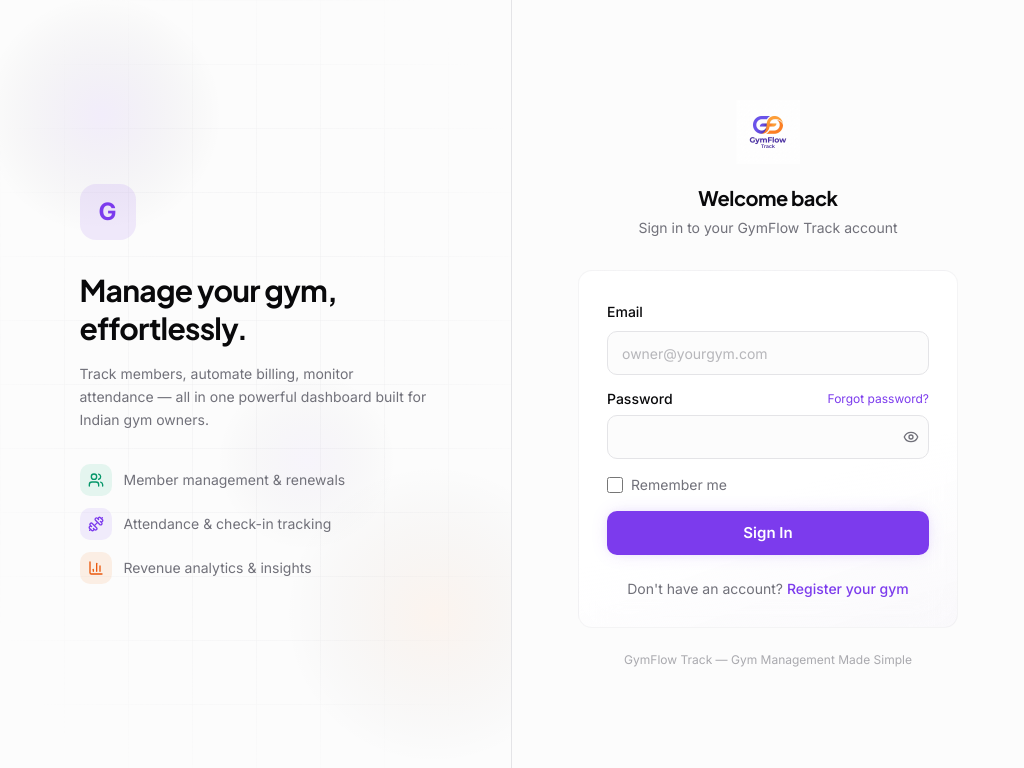
LoginPage › shows validation error for invalid email
In the field labelled "Email": {"x": 768, "y": 353} [607,331,929,375], type "notanemail"
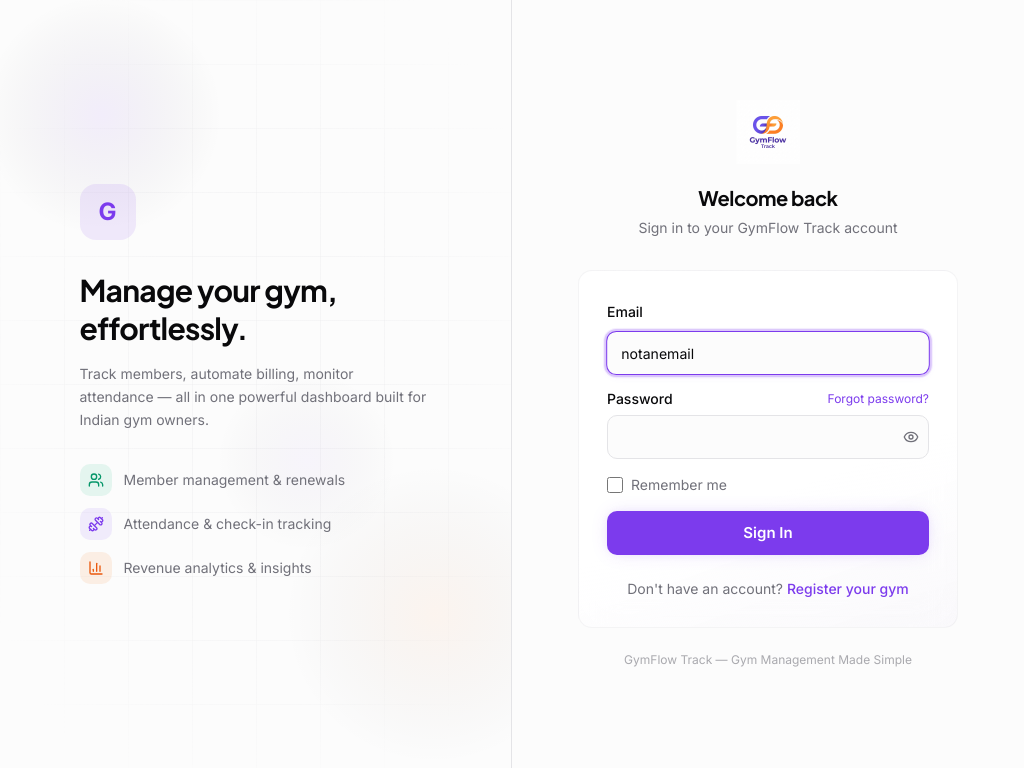
In the password field labelled "Password": {"x": 768, "y": 437} [607,415,929,459], type "password"
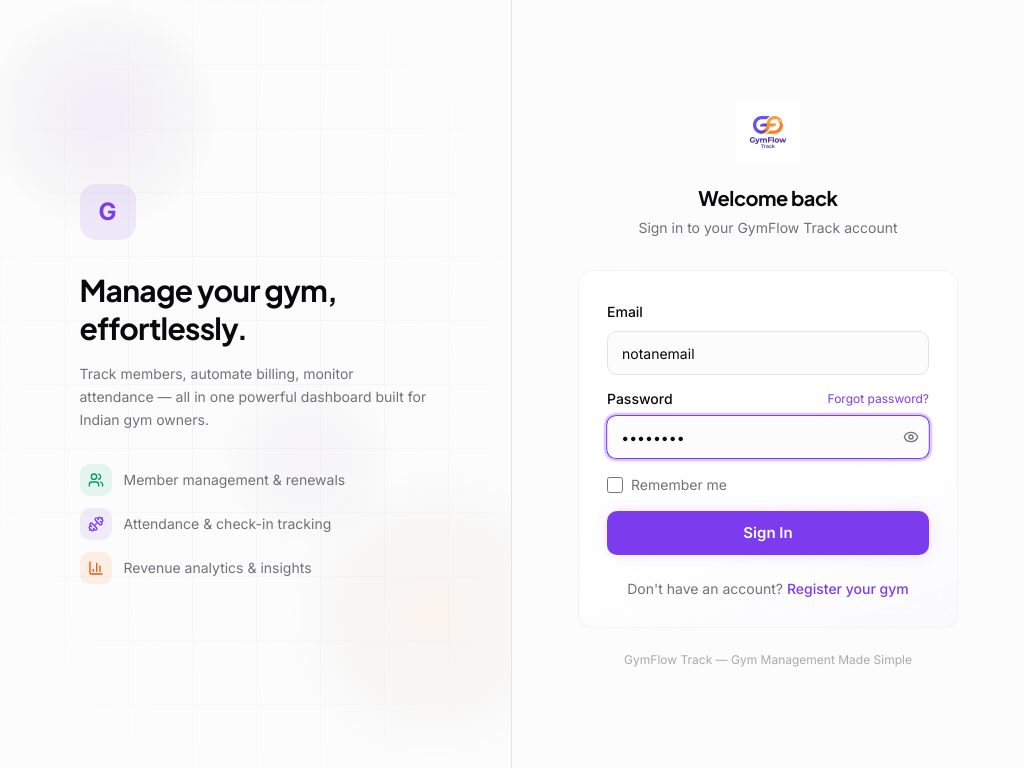
Click the button "Sign In": {"x": 768, "y": 533} [607,511,929,555]
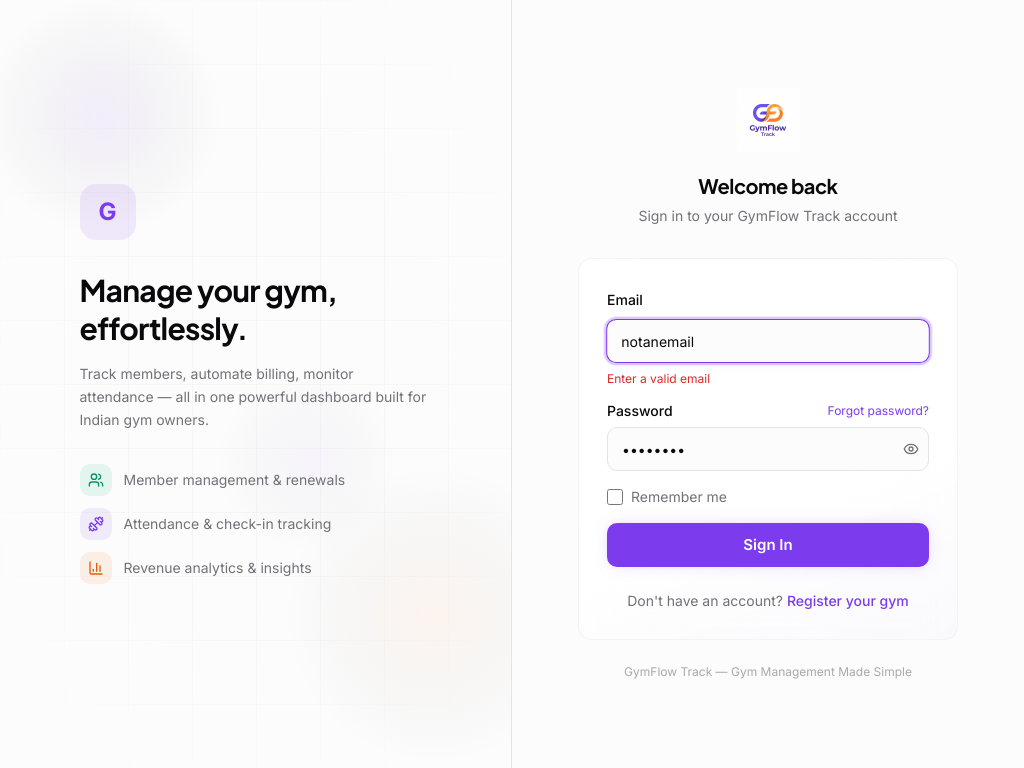
Expected: the text "Enter a valid email" is shown, [607,371,710,386]
